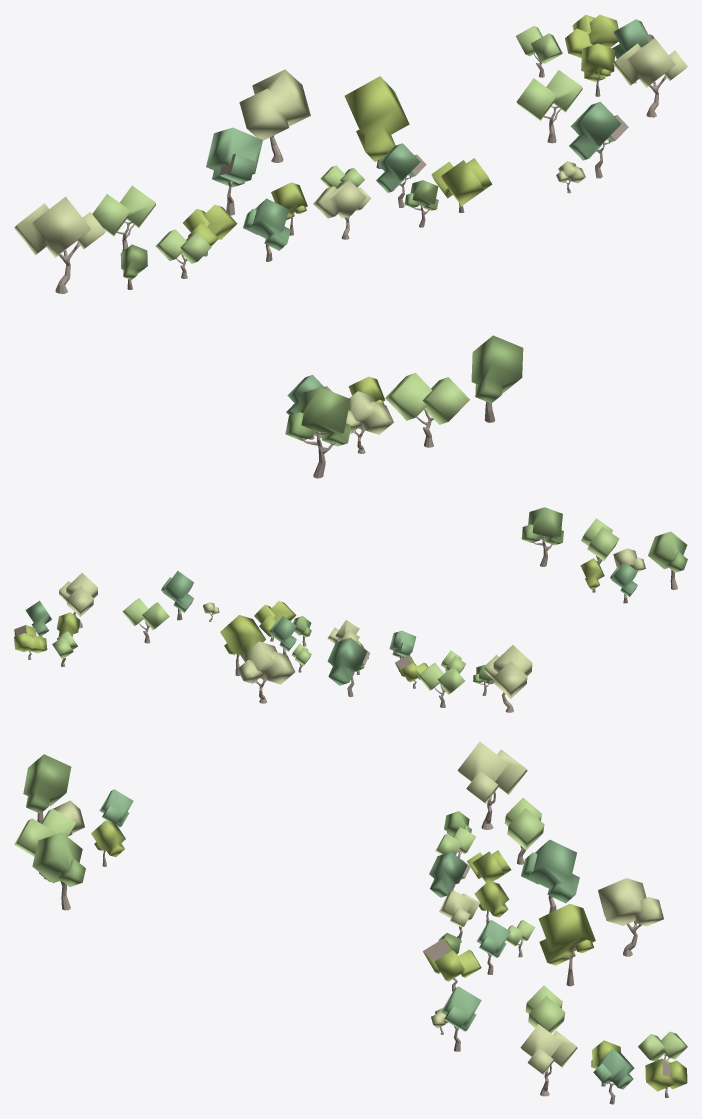
Rendered from Alberi-3.glb.
3 views of the same model, one above another, from view 1: azimuth 30°, elevation 25°; view 2: azimuth 150°, elevation 25°; view 3: azimuth 270°, elevation 25° (orthographic). The views are drawn at different scales.
Parts seen in each view (by area): view 1: Lowpoly_Tree_06_2, Lowpoly_Tree_06_6, Lowpoly_Tree_06_3, Lowpoly_Tree_06_5, Lowpoly_Tree_06_1, Lowpoly_Tree_06; view 2: Lowpoly_Tree_06_2, Lowpoly_Tree_06_5, Lowpoly_Tree_06_6, Lowpoly_Tree_06_3, Lowpoly_Tree_06_1, Lowpoly_Tree_06; view 3: Lowpoly_Tree_06_2, Lowpoly_Tree_06_6, Lowpoly_Tree_06_5, Lowpoly_Tree_06_3, Lowpoly_Tree_06_1, Lowpoly_Tree_06.
Part boxes in pixels (<box>): Lowpoly_Tree_06_2: <box>14,38,687,434</box>; Lowpoly_Tree_06_6: <box>183,14,618,404</box>; Lowpoly_Tree_06_3: <box>92,26,582,424</box>; Lowpoly_Tree_06_5: <box>206,19,653,415</box>; Lowpoly_Tree_06_1: <box>120,180,523,446</box>; Lowpoly_Tree_06: <box>55,34,666,478</box>; Lowpoly_Tree_06_2: <box>59,548,645,698</box>; Lowpoly_Tree_06_5: <box>25,562,637,685</box>; Lowpoly_Tree_06_6: <box>14,558,604,682</box>; Lowpoly_Tree_06_3: <box>52,518,619,694</box>; Lowpoly_Tree_06_1: <box>293,507,687,684</box>; Lowpoly_Tree_06: <box>14,534,677,712</box>; Lowpoly_Tree_06_2: <box>53,741,663,1074</box>; Lowpoly_Tree_06_6: <box>91,820,687,1091</box>; Lowpoly_Tree_06_5: <box>99,789,634,1089</box>; Lowpoly_Tree_06_3: <box>14,797,687,1061</box>; Lowpoly_Tree_06_1: <box>23,754,471,953</box>; Lowpoly_Tree_06: <box>37,791,670,1104</box>.
Size of the model in its own units: 109 by 14.67 by 104.
